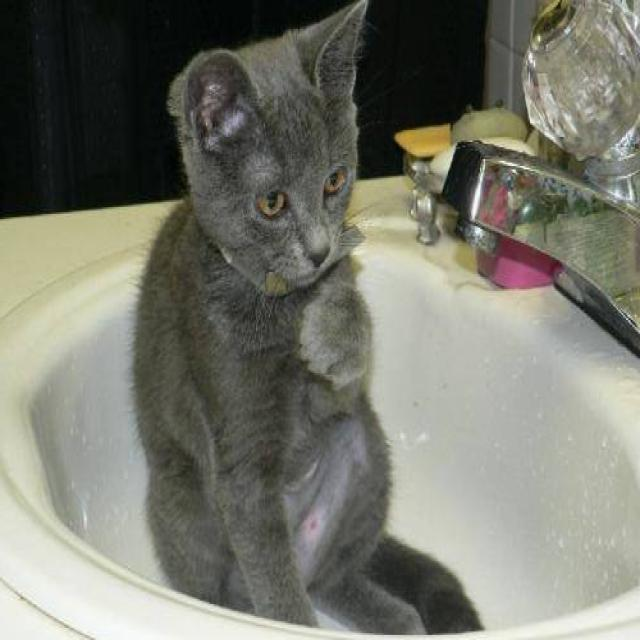Kucing: (120, 6, 408, 626)
